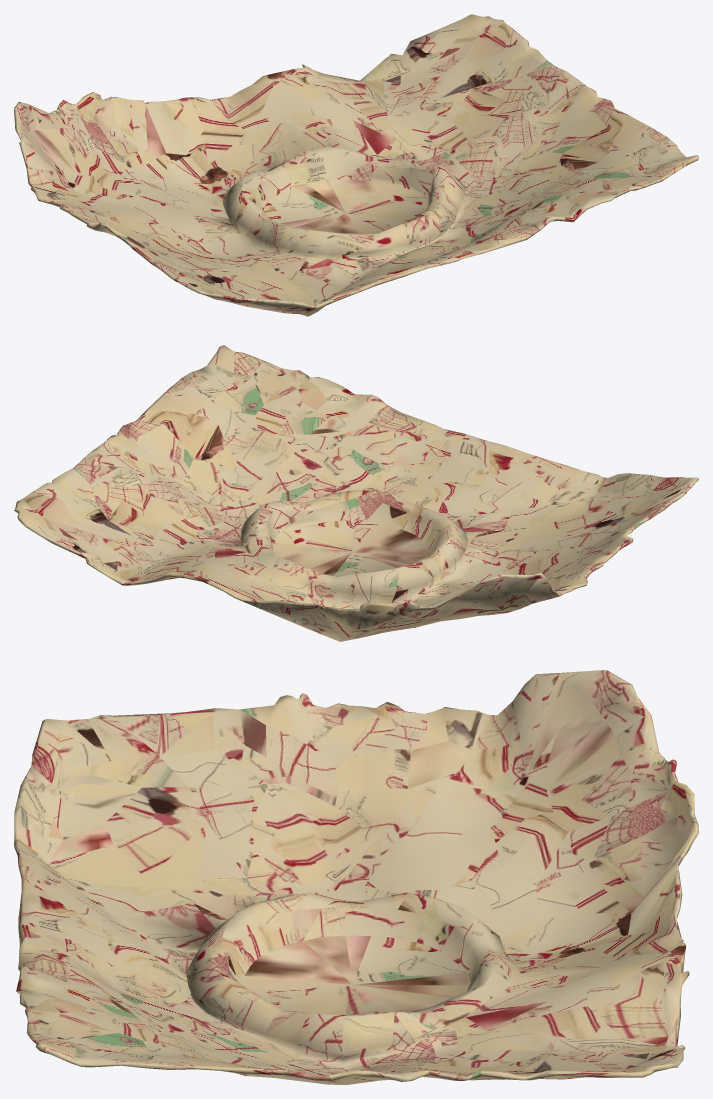
The model's file is cartaObjeto.fbx.
3 renders of one model, top to bottom at view 1: azimuth 30°, elevation 25°; view 2: azimuth 150°, elevation 25°; view 3: azimuth 270°, elevation 25°, orthographic. The views are drawn at different scales.
Visible parts, largest first — view 1: Mesh_0; view 2: Mesh_0; view 3: Mesh_0.
Boxes of the visible parts, bbox=[...] form: Mesh_0: bbox=[14, 14, 698, 316]; Mesh_0: bbox=[14, 345, 698, 641]; Mesh_0: bbox=[14, 670, 698, 1084].
Size of the model in its own units: 191 by 48.95 by 148.
